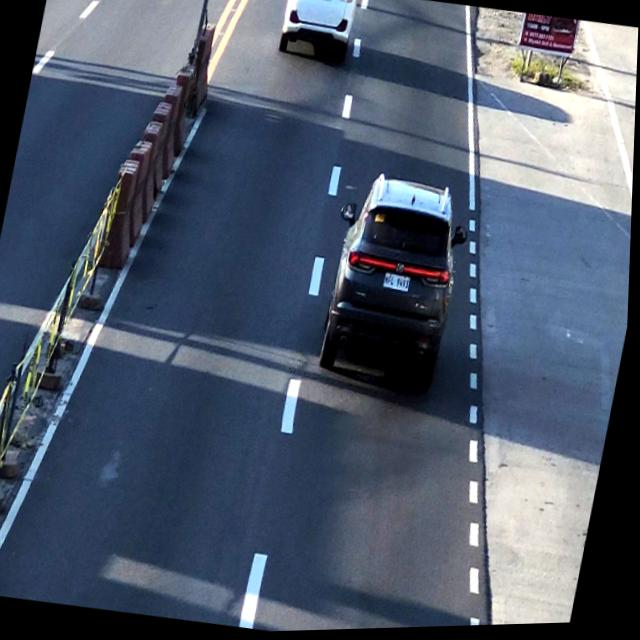Car: (314, 173, 477, 393), (274, 0, 362, 72)
License-Plate: (381, 273, 415, 296), (311, 0, 336, 8)
